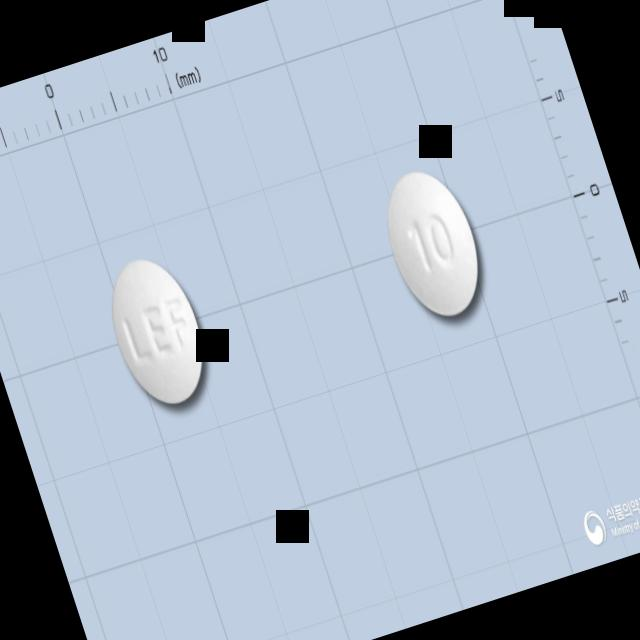R-A Tab: (369, 158, 497, 329), (95, 246, 222, 418)
